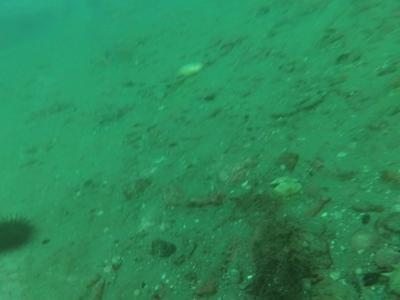urchin: (2, 212, 38, 251)
